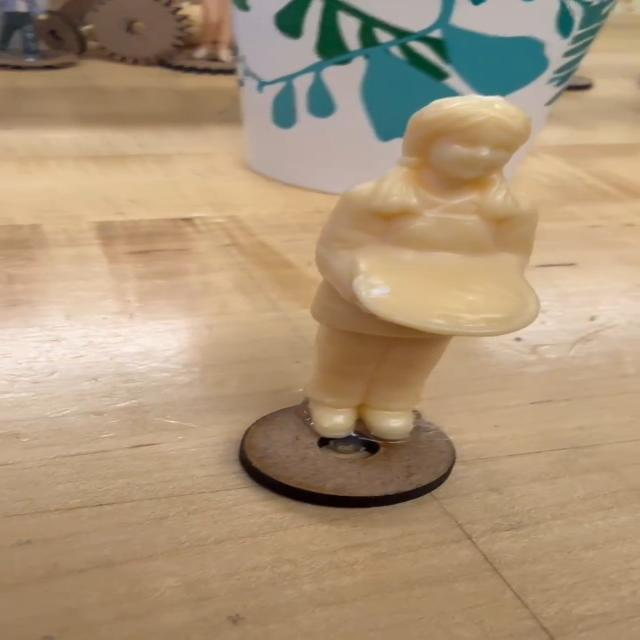Unauthorized: (294, 73, 538, 474)
